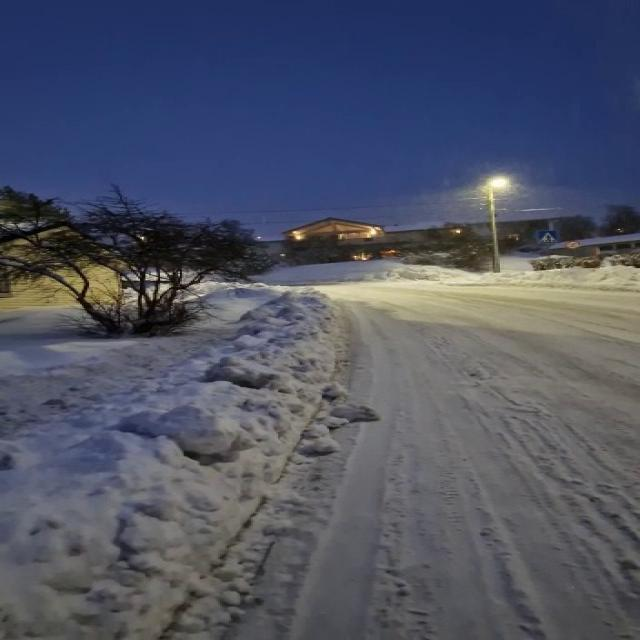path: (284, 286, 640, 640)
